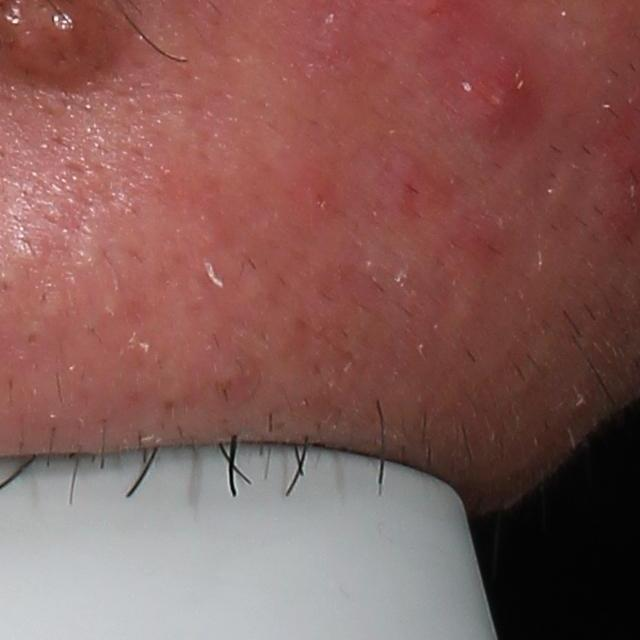papule: (465, 54, 549, 140)
